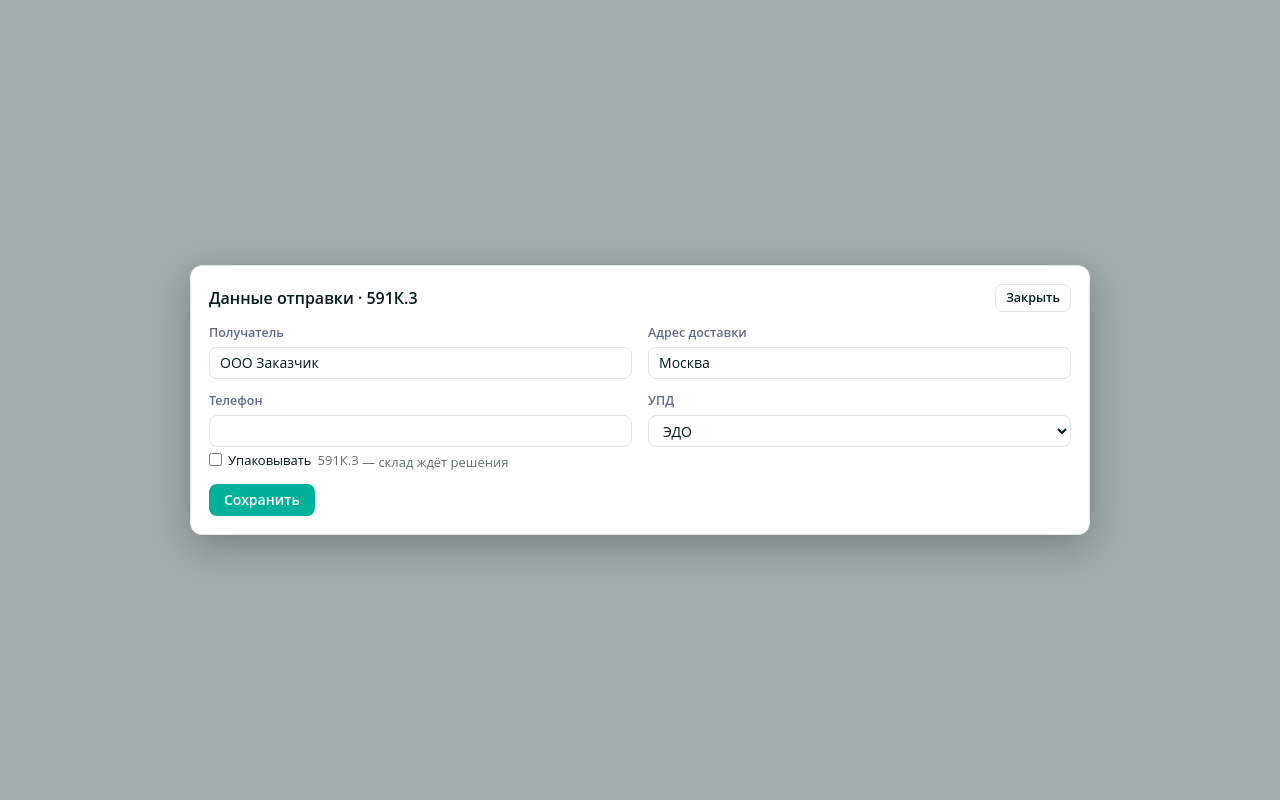
it: Данные отправки › «Упаковывать» posts the pack decision with the card version
The width and height of the screenshot is (1280, 800).
Expected: the field labelled "Получатель" holds "ООО Заказчик", [209,347,632,379]
Click the checkbox labelled "Упаковывать 591К.3".
click(216, 460)  # box [209,453,222,466]
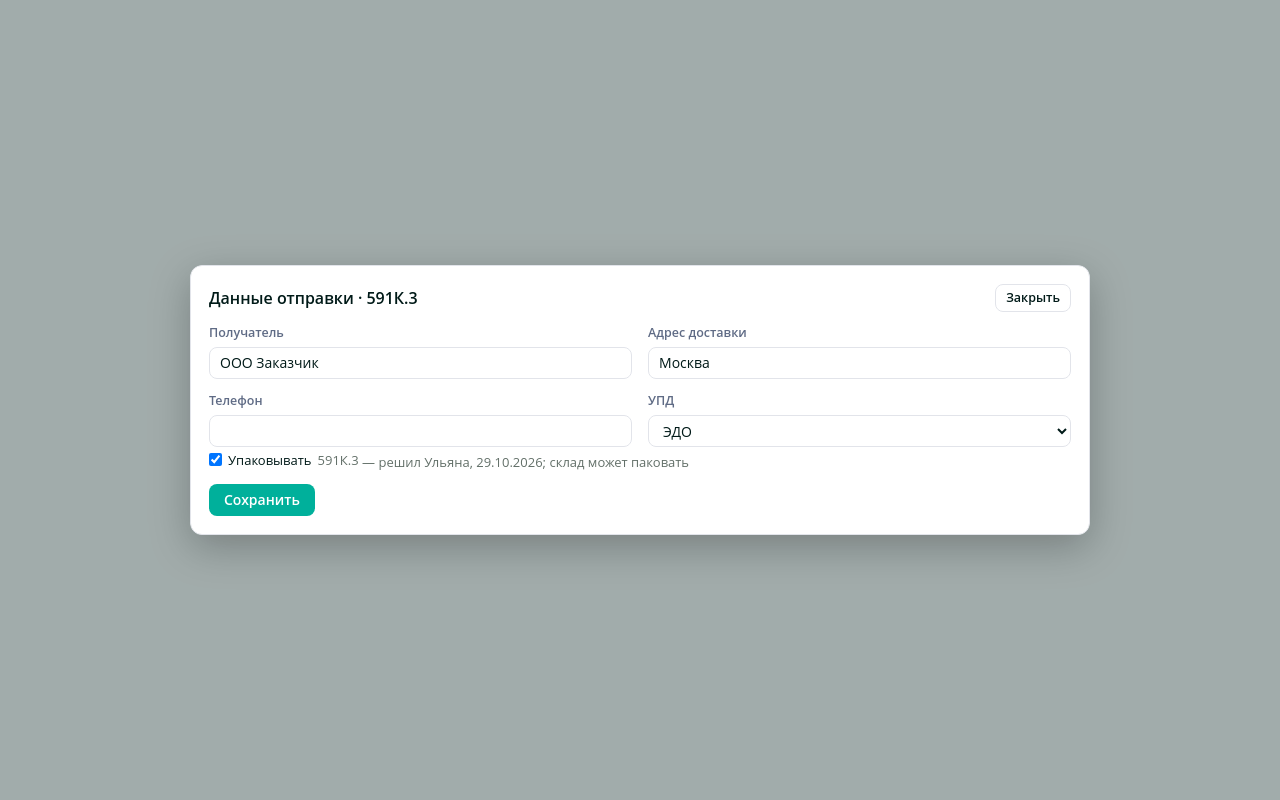
Now the checkbox labelled "Упаковывать 591К.3" is checked, box [209,453,222,466]
Now the text "— решил Ульяна, 29.10.2026; склад может паковать" is shown, box [359,452,689,470]
